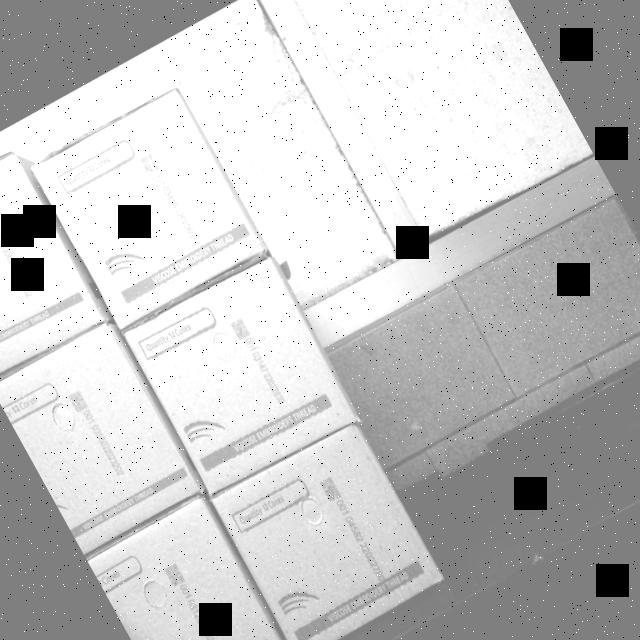box: (28, 83, 268, 329), (120, 252, 362, 495), (210, 419, 447, 640), (0, 317, 199, 549), (87, 495, 295, 640), (0, 145, 105, 380)
